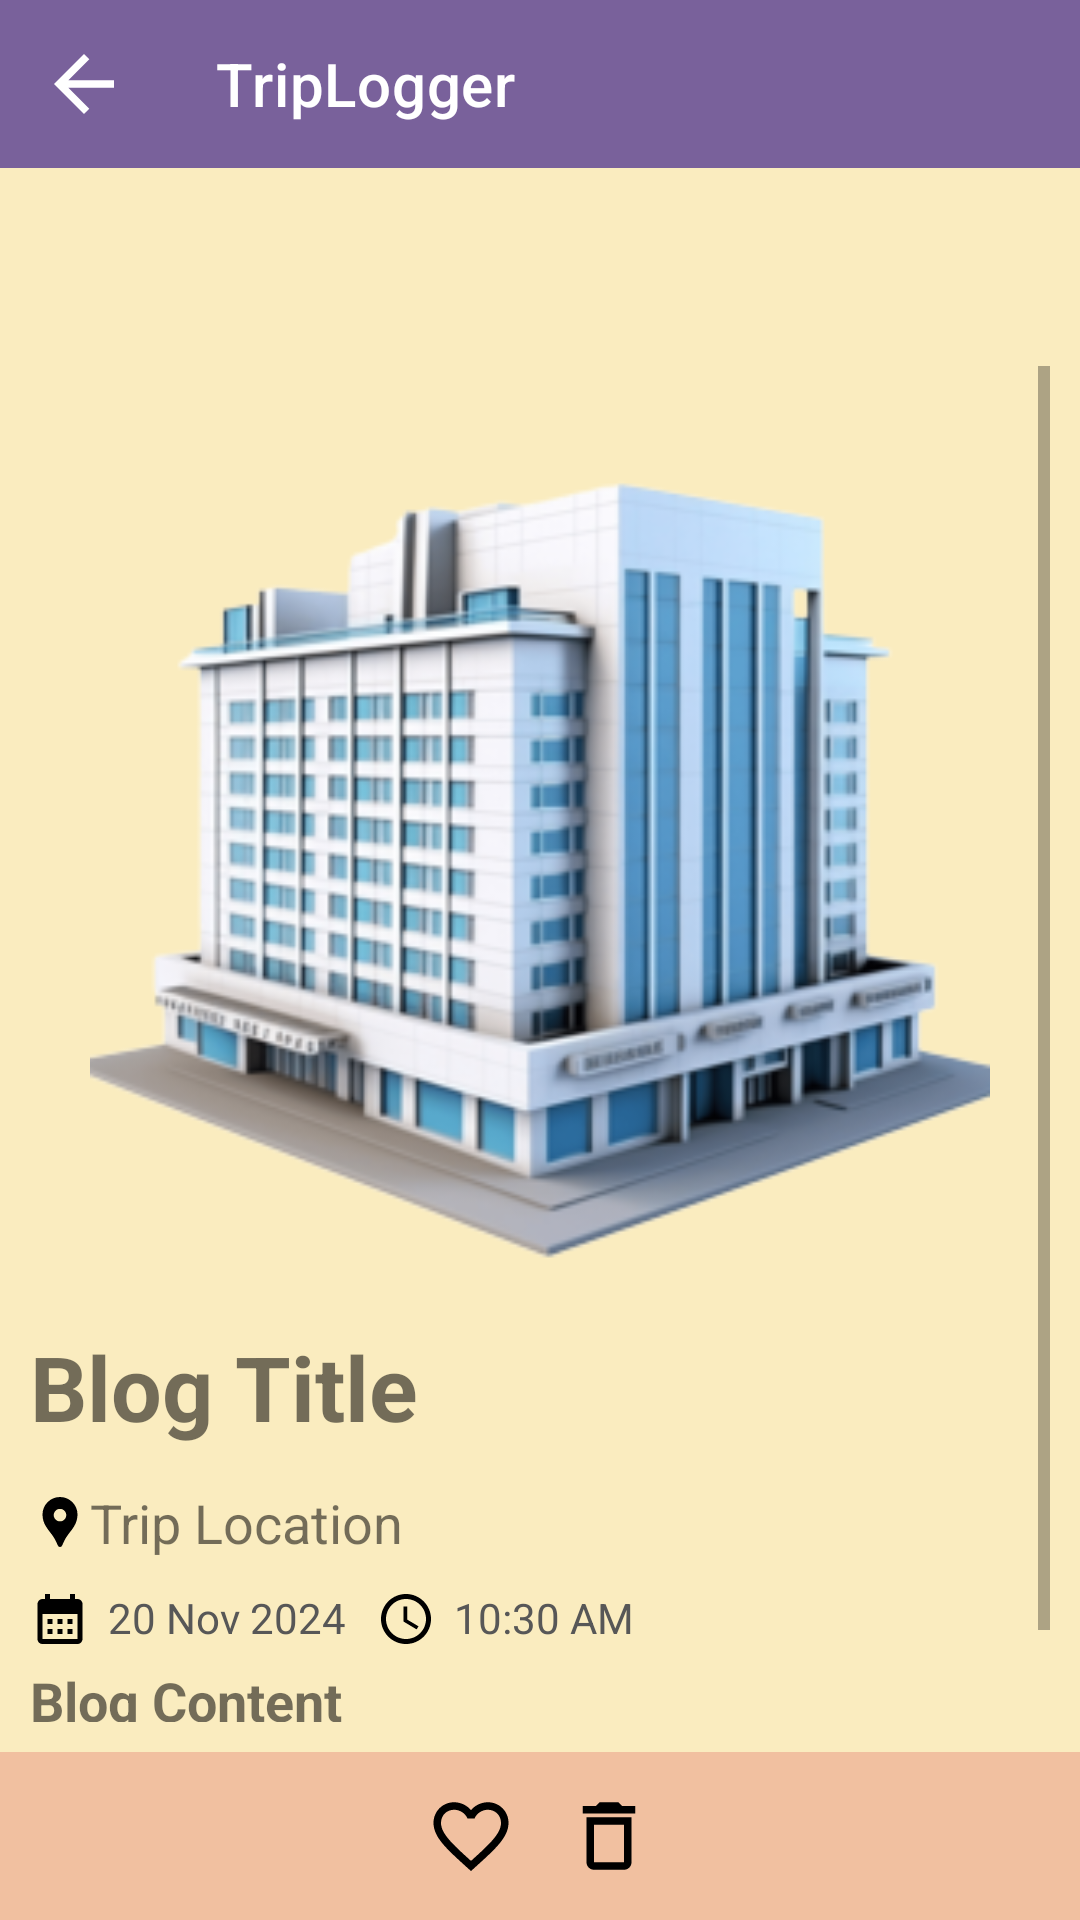

Icon click points for this 1080px×1920px phone screenshot, format point (x, y):
Delete button: point (609, 1836)
Favorite button: point (471, 1836)
